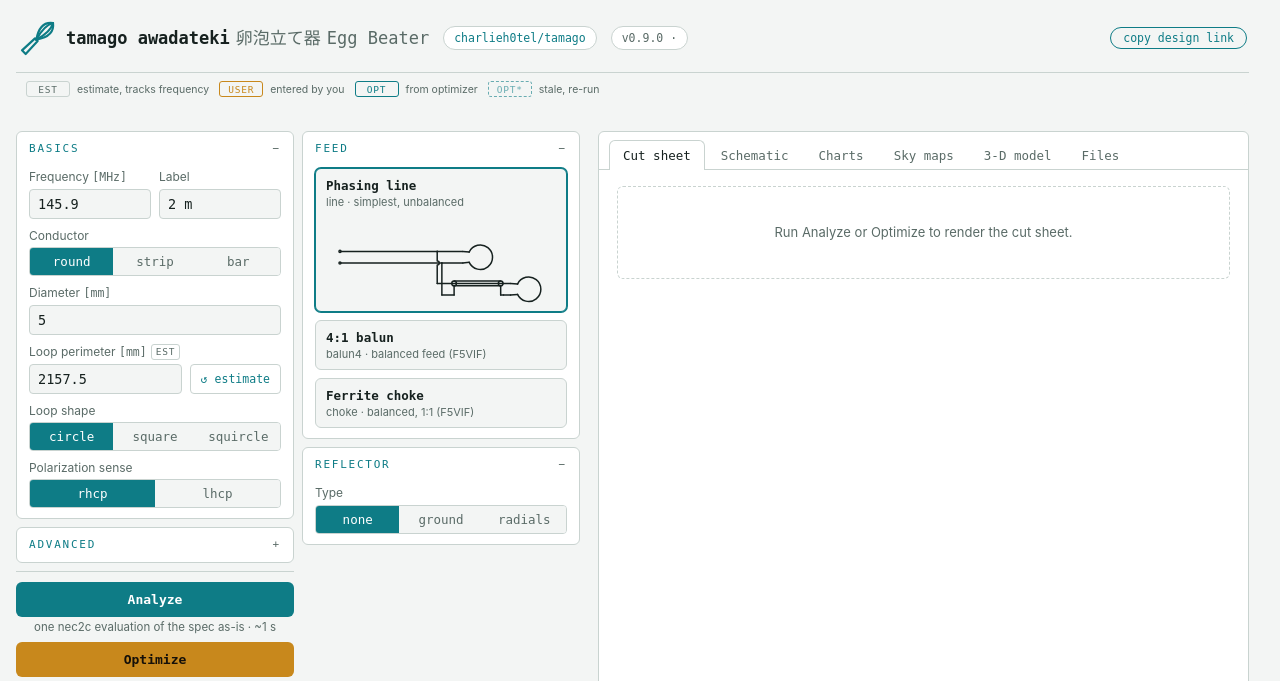
Scenario: stale-results banner › appears after a real edit and not after a label edit
Click the button "Analyze" at (155, 600), box [16, 582, 294, 617]
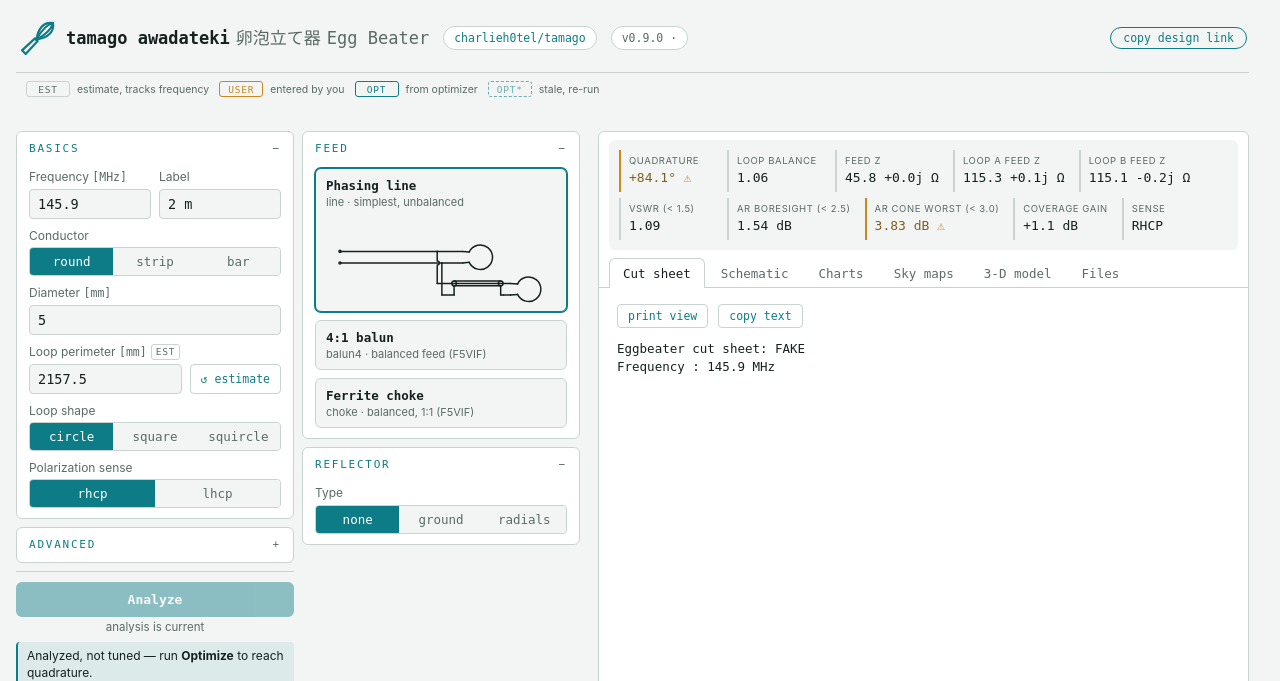
Result: the text "Eggbeater cut sheet: FAKE Frequency : 145.9 MHz" is shown at [617, 340, 805, 374]
// Renaming the design must not stale the result.
Replace the text in the field labelled "Label" with "my rig" at (220, 204), box [159, 189, 281, 219]
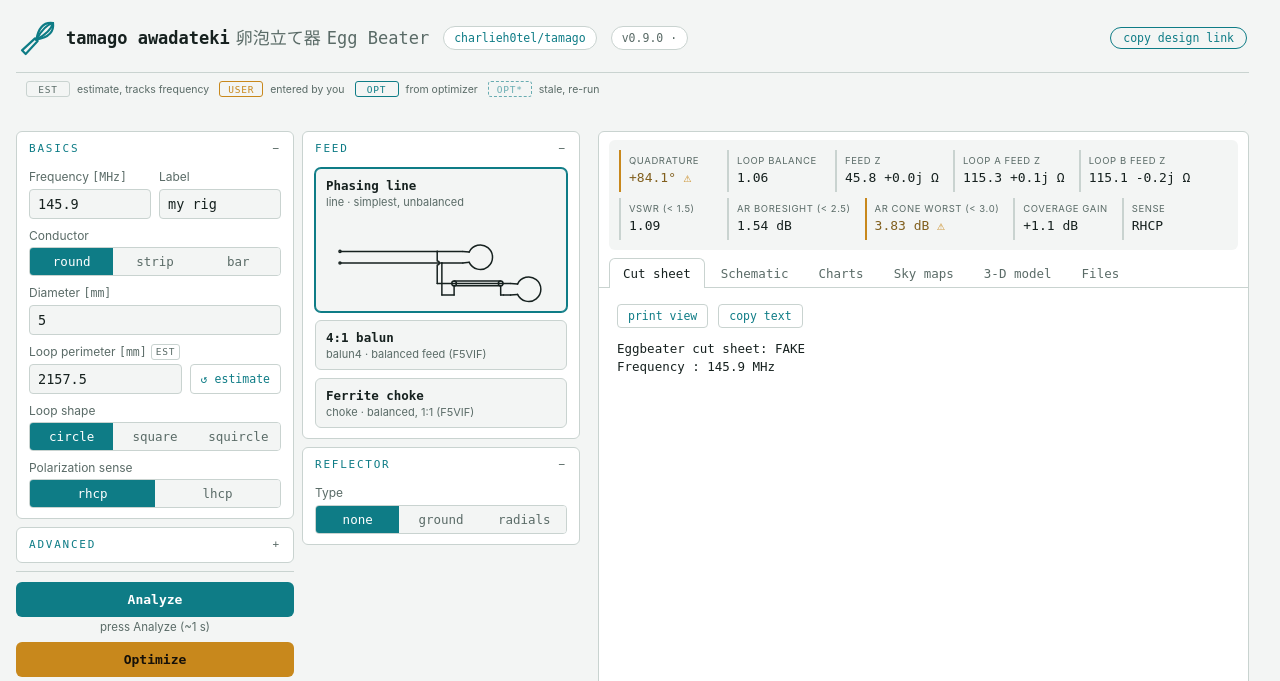
// Changing the frequency does.
Replace the text in the number field with id "freq" with "146.5" at (90, 204), box [29, 189, 151, 219]
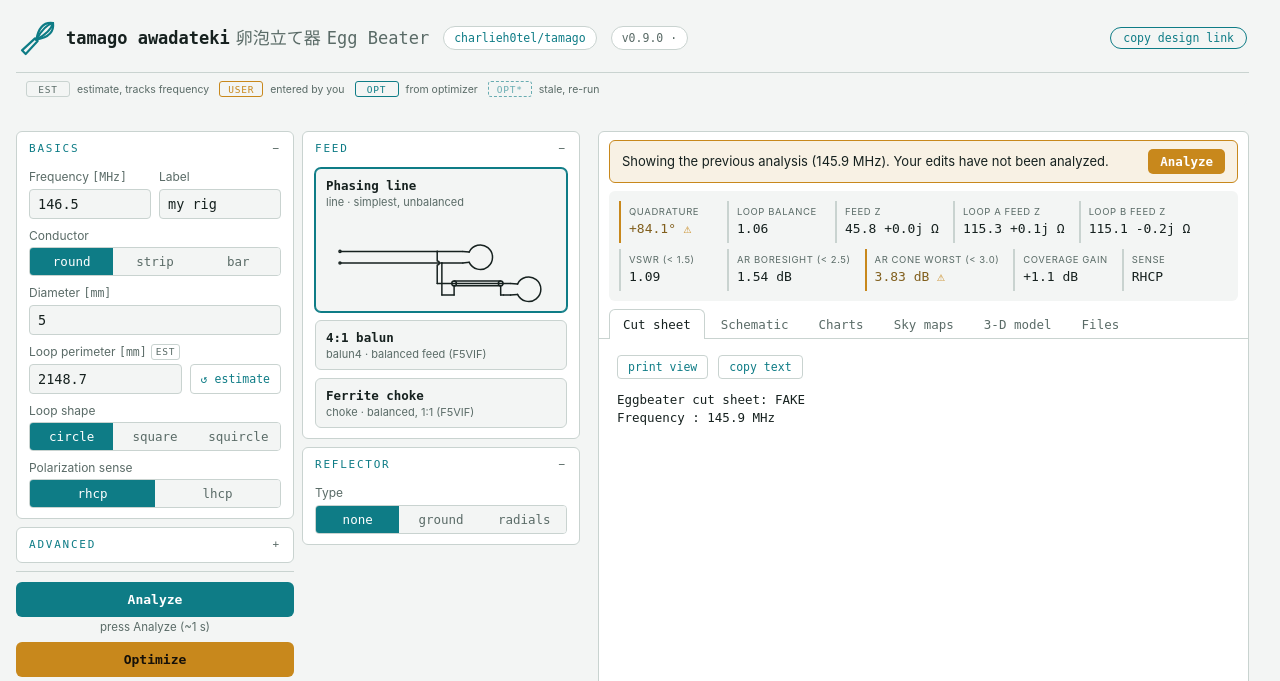
Result: the message with class "stale-banner" is shown at [609, 140, 1238, 183]
// Re-analyzing clears it.
Click the button "Analyze" below "Advanced" at (155, 600), box [16, 582, 294, 617]
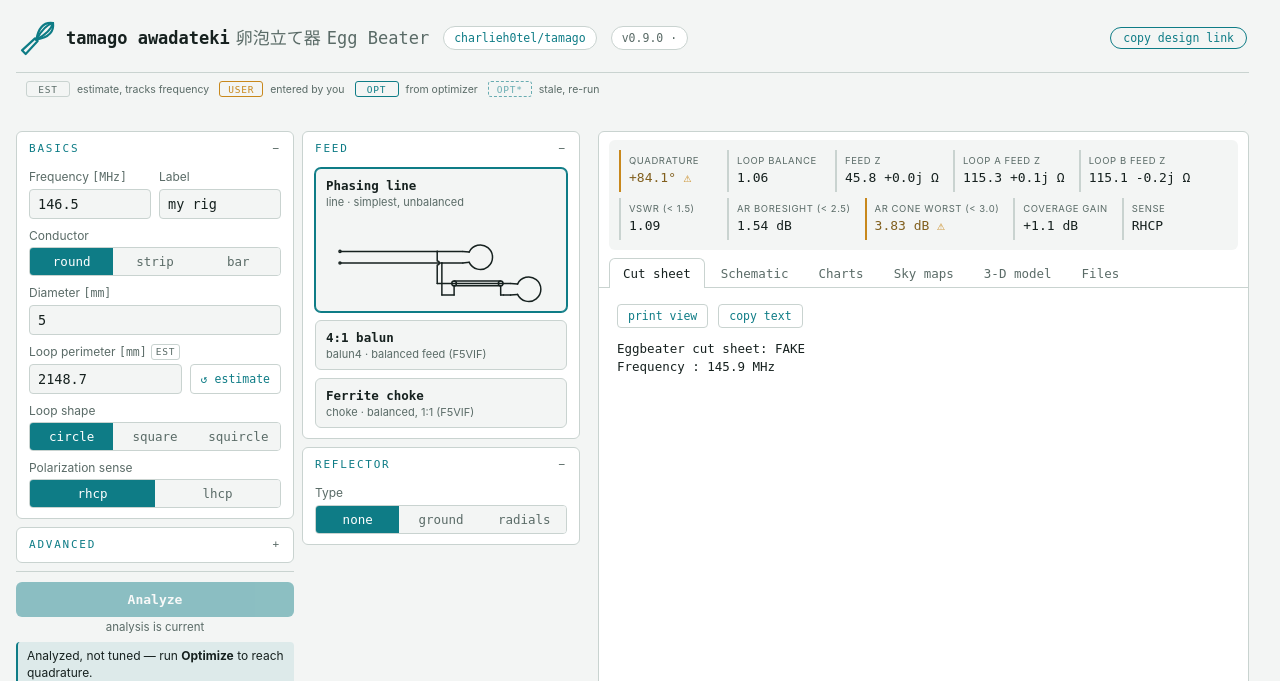
Result: the message with class "stale-banner" is gone
